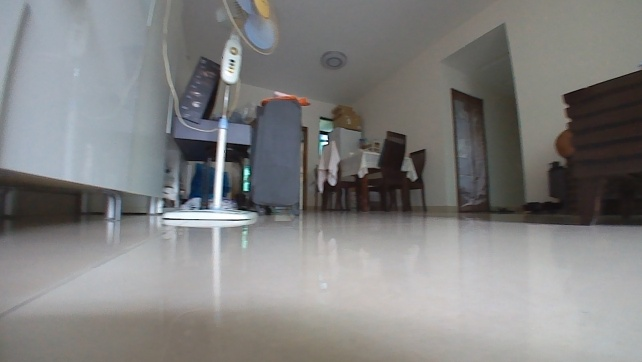chair_base: (160, 204, 256, 225)
dining_table: (314, 127, 428, 213)
wire: (158, 0, 216, 135)
